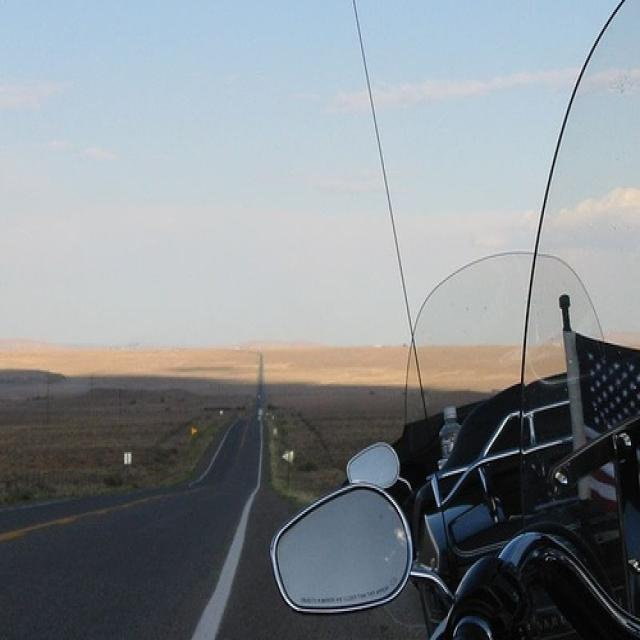motorbike: (261, 246, 639, 636)
